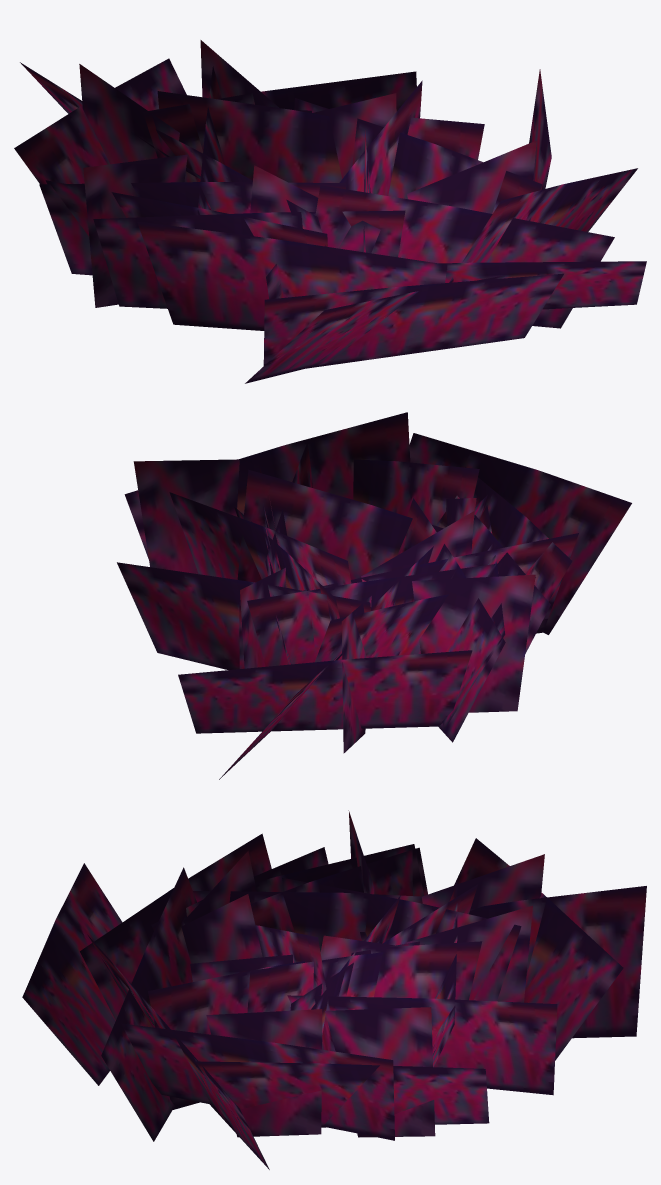
The picture shows the model from 3 angles, top to bottom: view 1: azimuth 30°, elevation 25°; view 2: azimuth 150°, elevation 25°; view 3: azimuth 270°, elevation 25°; orthographic projection. The views are drawn at different scales.
Parts seen in each view (by area): view 1: SM_GF_GrassShort_02_LOD0; view 2: SM_GF_GrassShort_02_LOD0; view 3: SM_GF_GrassShort_02_LOD0.
Part boxes in pixels (x1,y1,x2,y2): SM_GF_GrassShort_02_LOD0: [14, 40, 646, 383]; SM_GF_GrassShort_02_LOD0: [117, 412, 631, 779]; SM_GF_GrassShort_02_LOD0: [22, 810, 646, 1169].
Size of the model in its own units: 0.8139 by 0.309 by 0.9537.
1 material, 1 textured.
